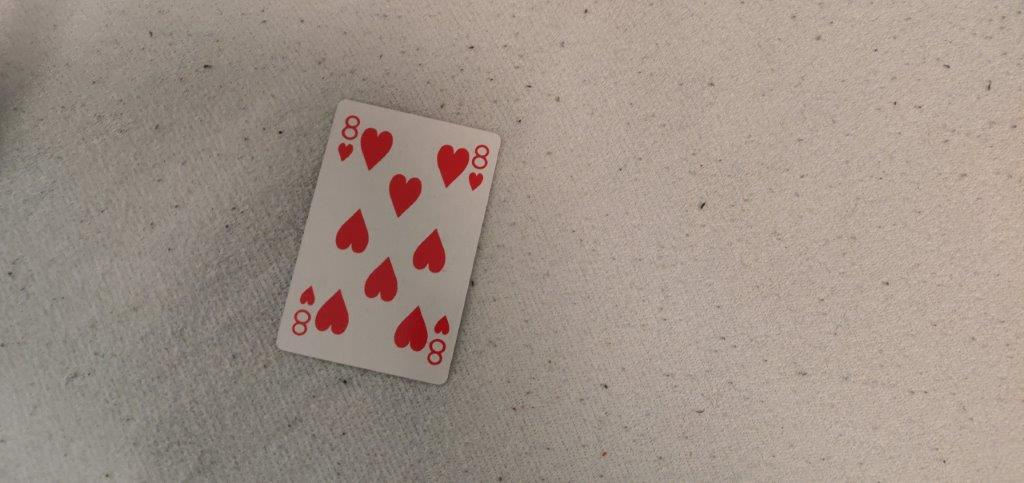8H: (334, 104, 363, 168), (465, 141, 494, 192)
